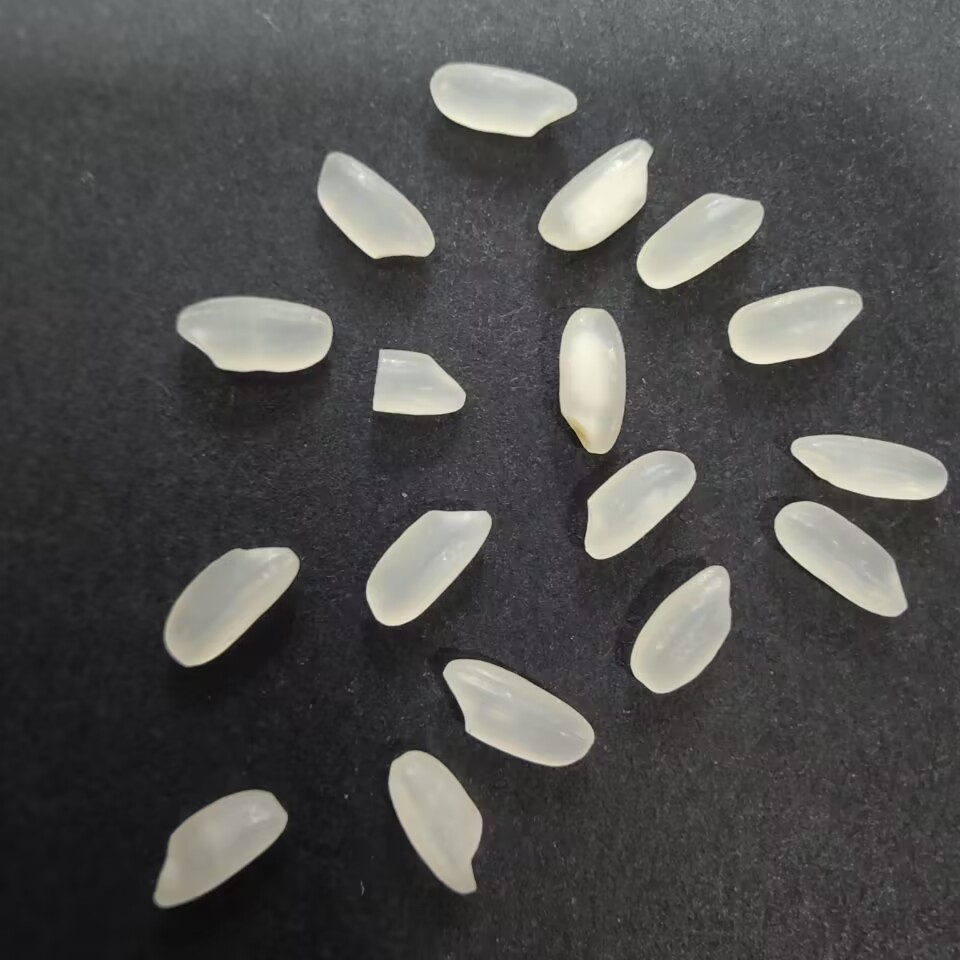broken: (365, 341, 473, 426)
rice: (148, 783, 297, 919), (437, 652, 603, 773), (159, 537, 302, 675), (768, 493, 916, 622), (364, 500, 497, 633), (382, 748, 494, 901), (531, 129, 658, 254), (626, 559, 739, 699), (162, 291, 339, 379), (311, 146, 438, 264), (578, 446, 703, 563), (633, 191, 770, 292), (423, 55, 580, 143), (715, 280, 867, 370), (782, 428, 951, 507), (554, 304, 636, 459)
